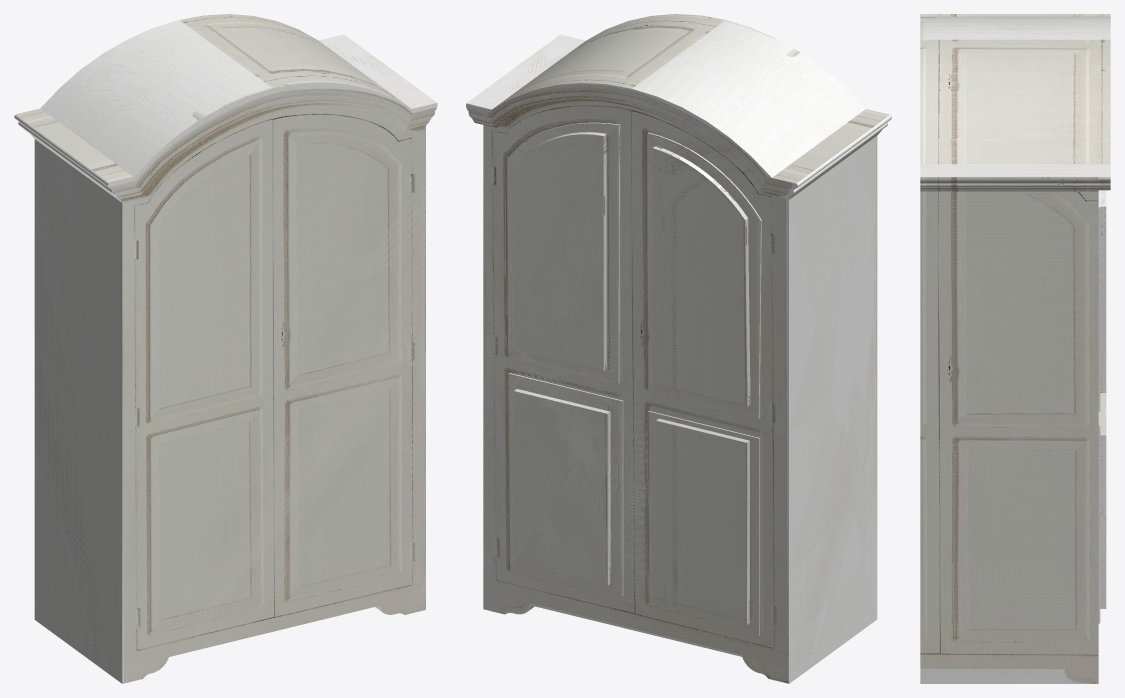
The picture shows the model from 3 angles, left to right: view 1: azimuth 30°, elevation 25°; view 2: azimuth 150°, elevation 25°; view 3: azimuth 270°, elevation 25°; orthographic projection.
Parts seen in each view (by area): view 1: mesh1_mesh1-geometry; view 2: mesh1_mesh1-geometry; view 3: mesh1_mesh1-geometry.
Part boxes in pixels (bbox=[...]): mesh1_mesh1-geometry: bbox=[14, 14, 437, 683]; mesh1_mesh1-geometry: bbox=[466, 14, 891, 683]; mesh1_mesh1-geometry: bbox=[920, 14, 1110, 683].
Bounding box in the file's own units: 0.5086 × 0.824 × 0.2498.
Materials: 2 (1 with a texture image).
